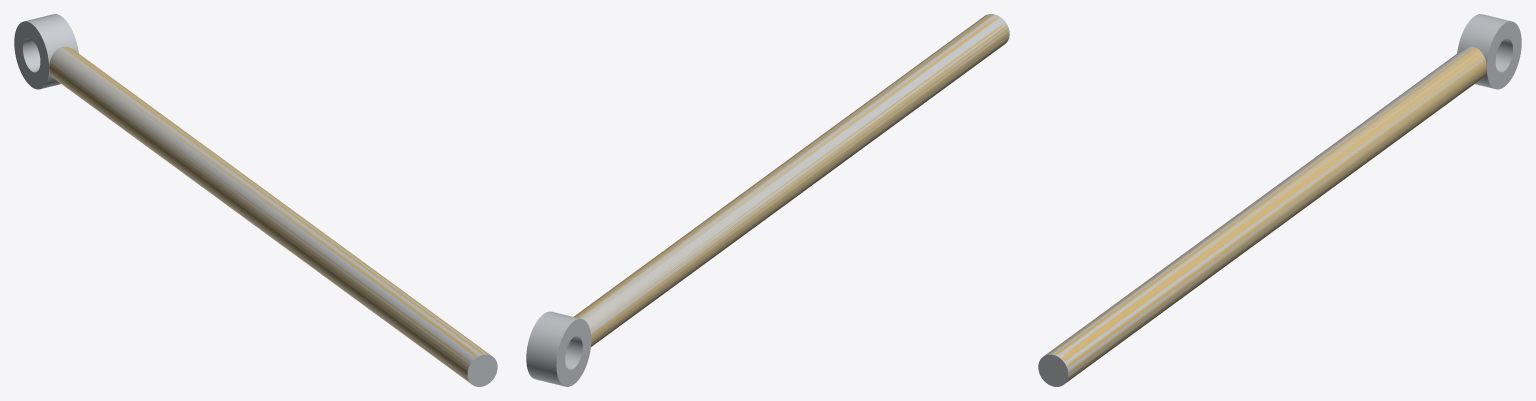
File: step_02.glb
The picture shows the model from 3 angles, left to right: view 1: azimuth 30°, elevation 25°; view 2: azimuth 150°, elevation 25°; view 3: azimuth 330°, elevation 25°; orthographic projection.
Visible parts, largest first — view 1: part__recline lock rod, added__recline lock rod; view 2: part__recline lock rod, added__recline lock rod; view 3: part__recline lock rod, added__recline lock rod.
Part boxes in pixels (box(x1,y1,x2,y2)): part__recline lock rod: box(14, 14, 497, 386); added__recline lock rod: box(49, 46, 491, 382); part__recline lock rod: box(526, 14, 1009, 386); added__recline lock rod: box(574, 14, 1009, 346); part__recline lock rod: box(1038, 14, 1521, 386); added__recline lock rod: box(1048, 47, 1486, 382).
Size of the model in its own units: 8 by 16 by 208.
